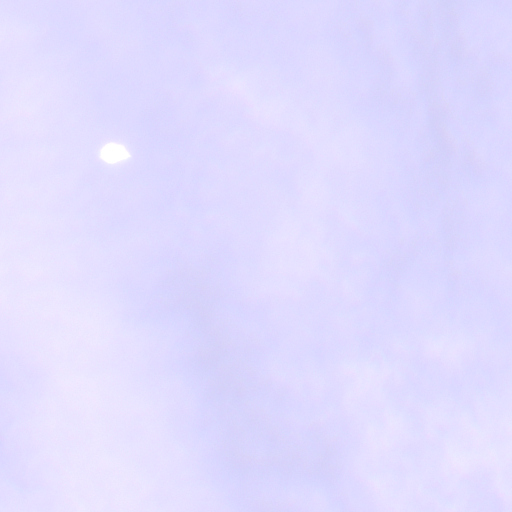Iceberg: (100, 143, 129, 162)
